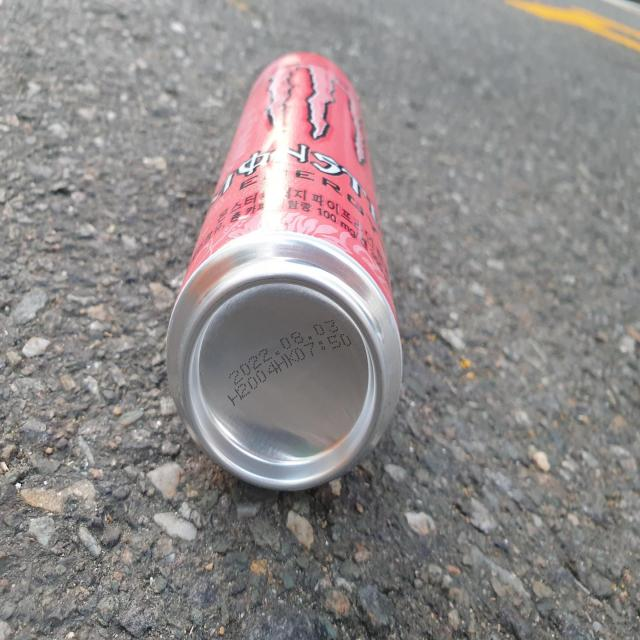can: (166, 52, 403, 490)
